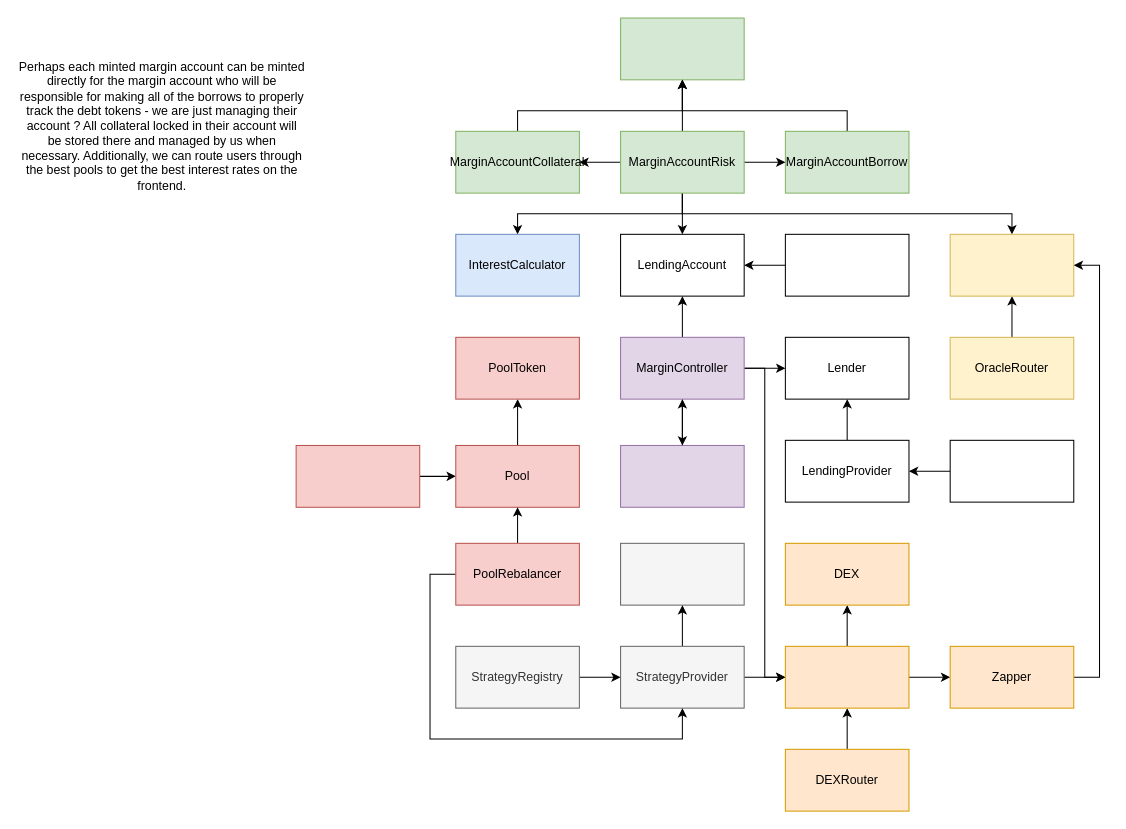
Some shapes in this 1126 by 829 pixel diagram are drawn without their labels. The box of each missing label's shape, as (x1, y1, x2, y2) in pixels:
DEXProvider: (784, 645, 909, 708)
LendingAccountFactory: (784, 233, 909, 296)
LendingRegistry: (949, 439, 1074, 502)
MarginAccount: (620, 17, 744, 80)
MarginManager: (620, 444, 744, 507)
Oracle: (949, 233, 1074, 296)
PoolRegistry: (295, 444, 420, 507)
Strategy: (620, 542, 744, 605)
